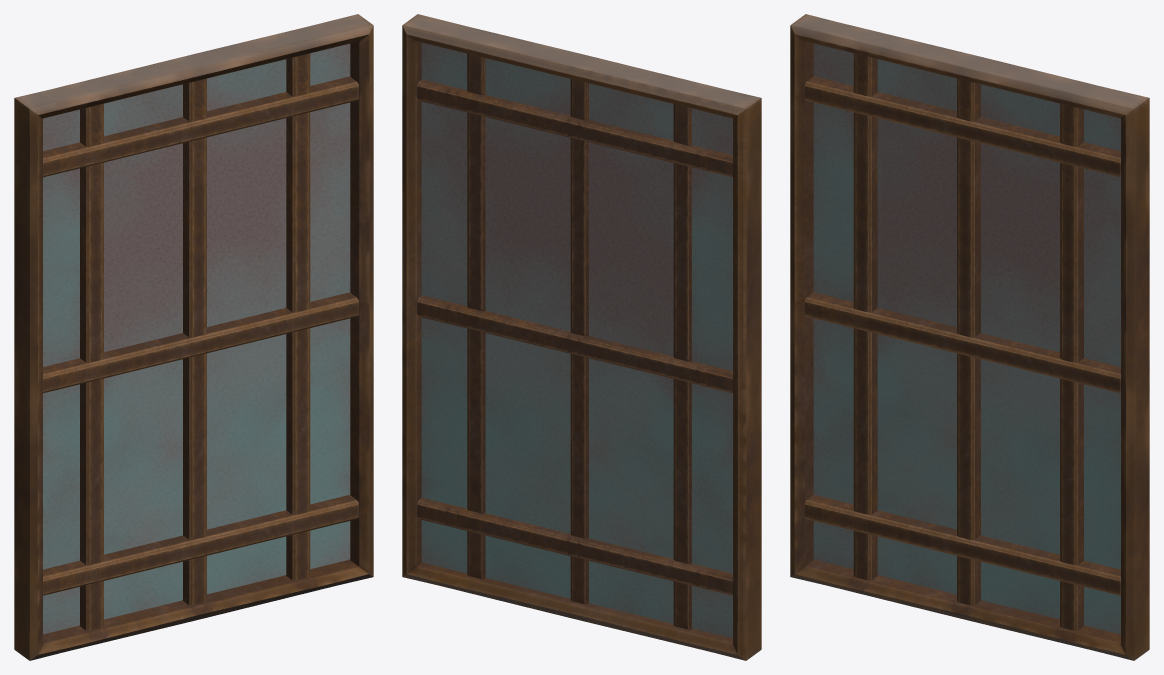
The model's file is Window 1.fbx.
3 views of the same model, side by side, from view 1: azimuth 30°, elevation 25°; view 2: azimuth 150°, elevation 25°; view 3: azimuth 330°, elevation 25° (orthographic).
Visible parts, largest first — view 1: SK_Glass, SK_Window; view 2: SK_Glass, SK_Window; view 3: SK_Glass, SK_Window.
Part boxes in pixels (x1,y1,x2,y2): SK_Glass: (43, 43, 350, 634); SK_Window: (14, 14, 373, 660); SK_Glass: (421, 42, 732, 638); SK_Window: (402, 14, 761, 660); SK_Glass: (813, 43, 1120, 634); SK_Window: (790, 14, 1149, 660).
Size of the model in its own units: 6.12 by 9.39 by 0.6066.
